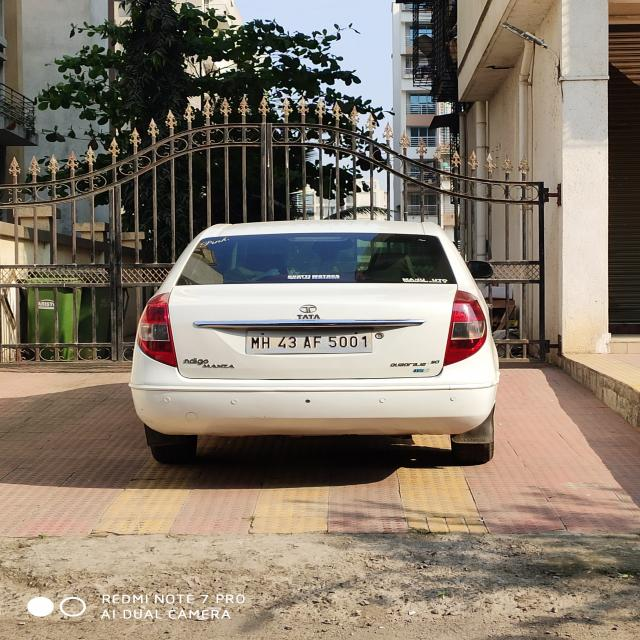Number-Plate: (253, 328, 368, 352)
